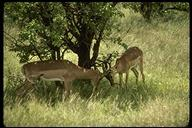antelope: (18, 56, 107, 96), (94, 45, 147, 87)
grass: (6, 97, 188, 125)
tree: (5, 3, 119, 50)
